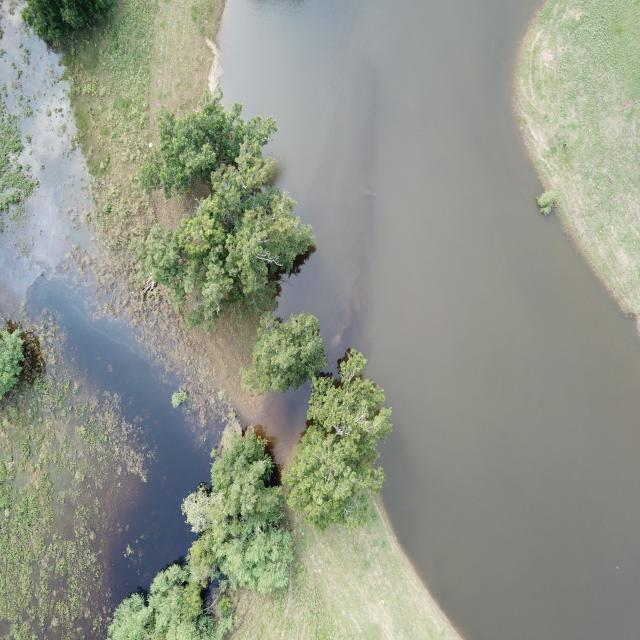fire: (221, 0, 640, 639), (0, 10, 215, 639)
